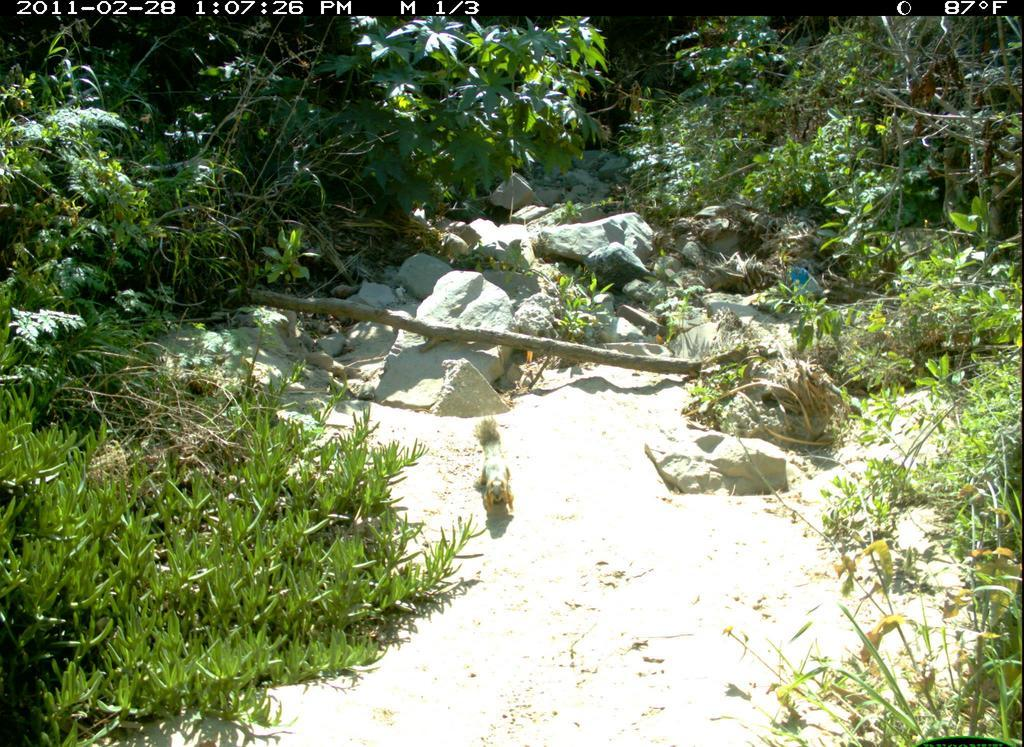squirrel: (460, 413, 527, 521)
